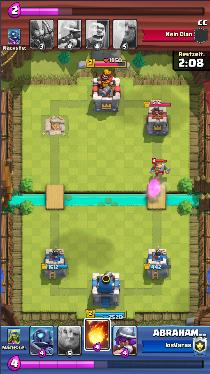enemy_knight: (150, 161, 170, 178)
